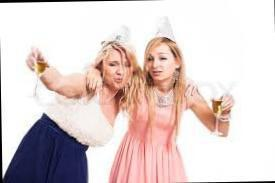Drunk: (105, 50, 131, 88), (147, 46, 172, 80)
